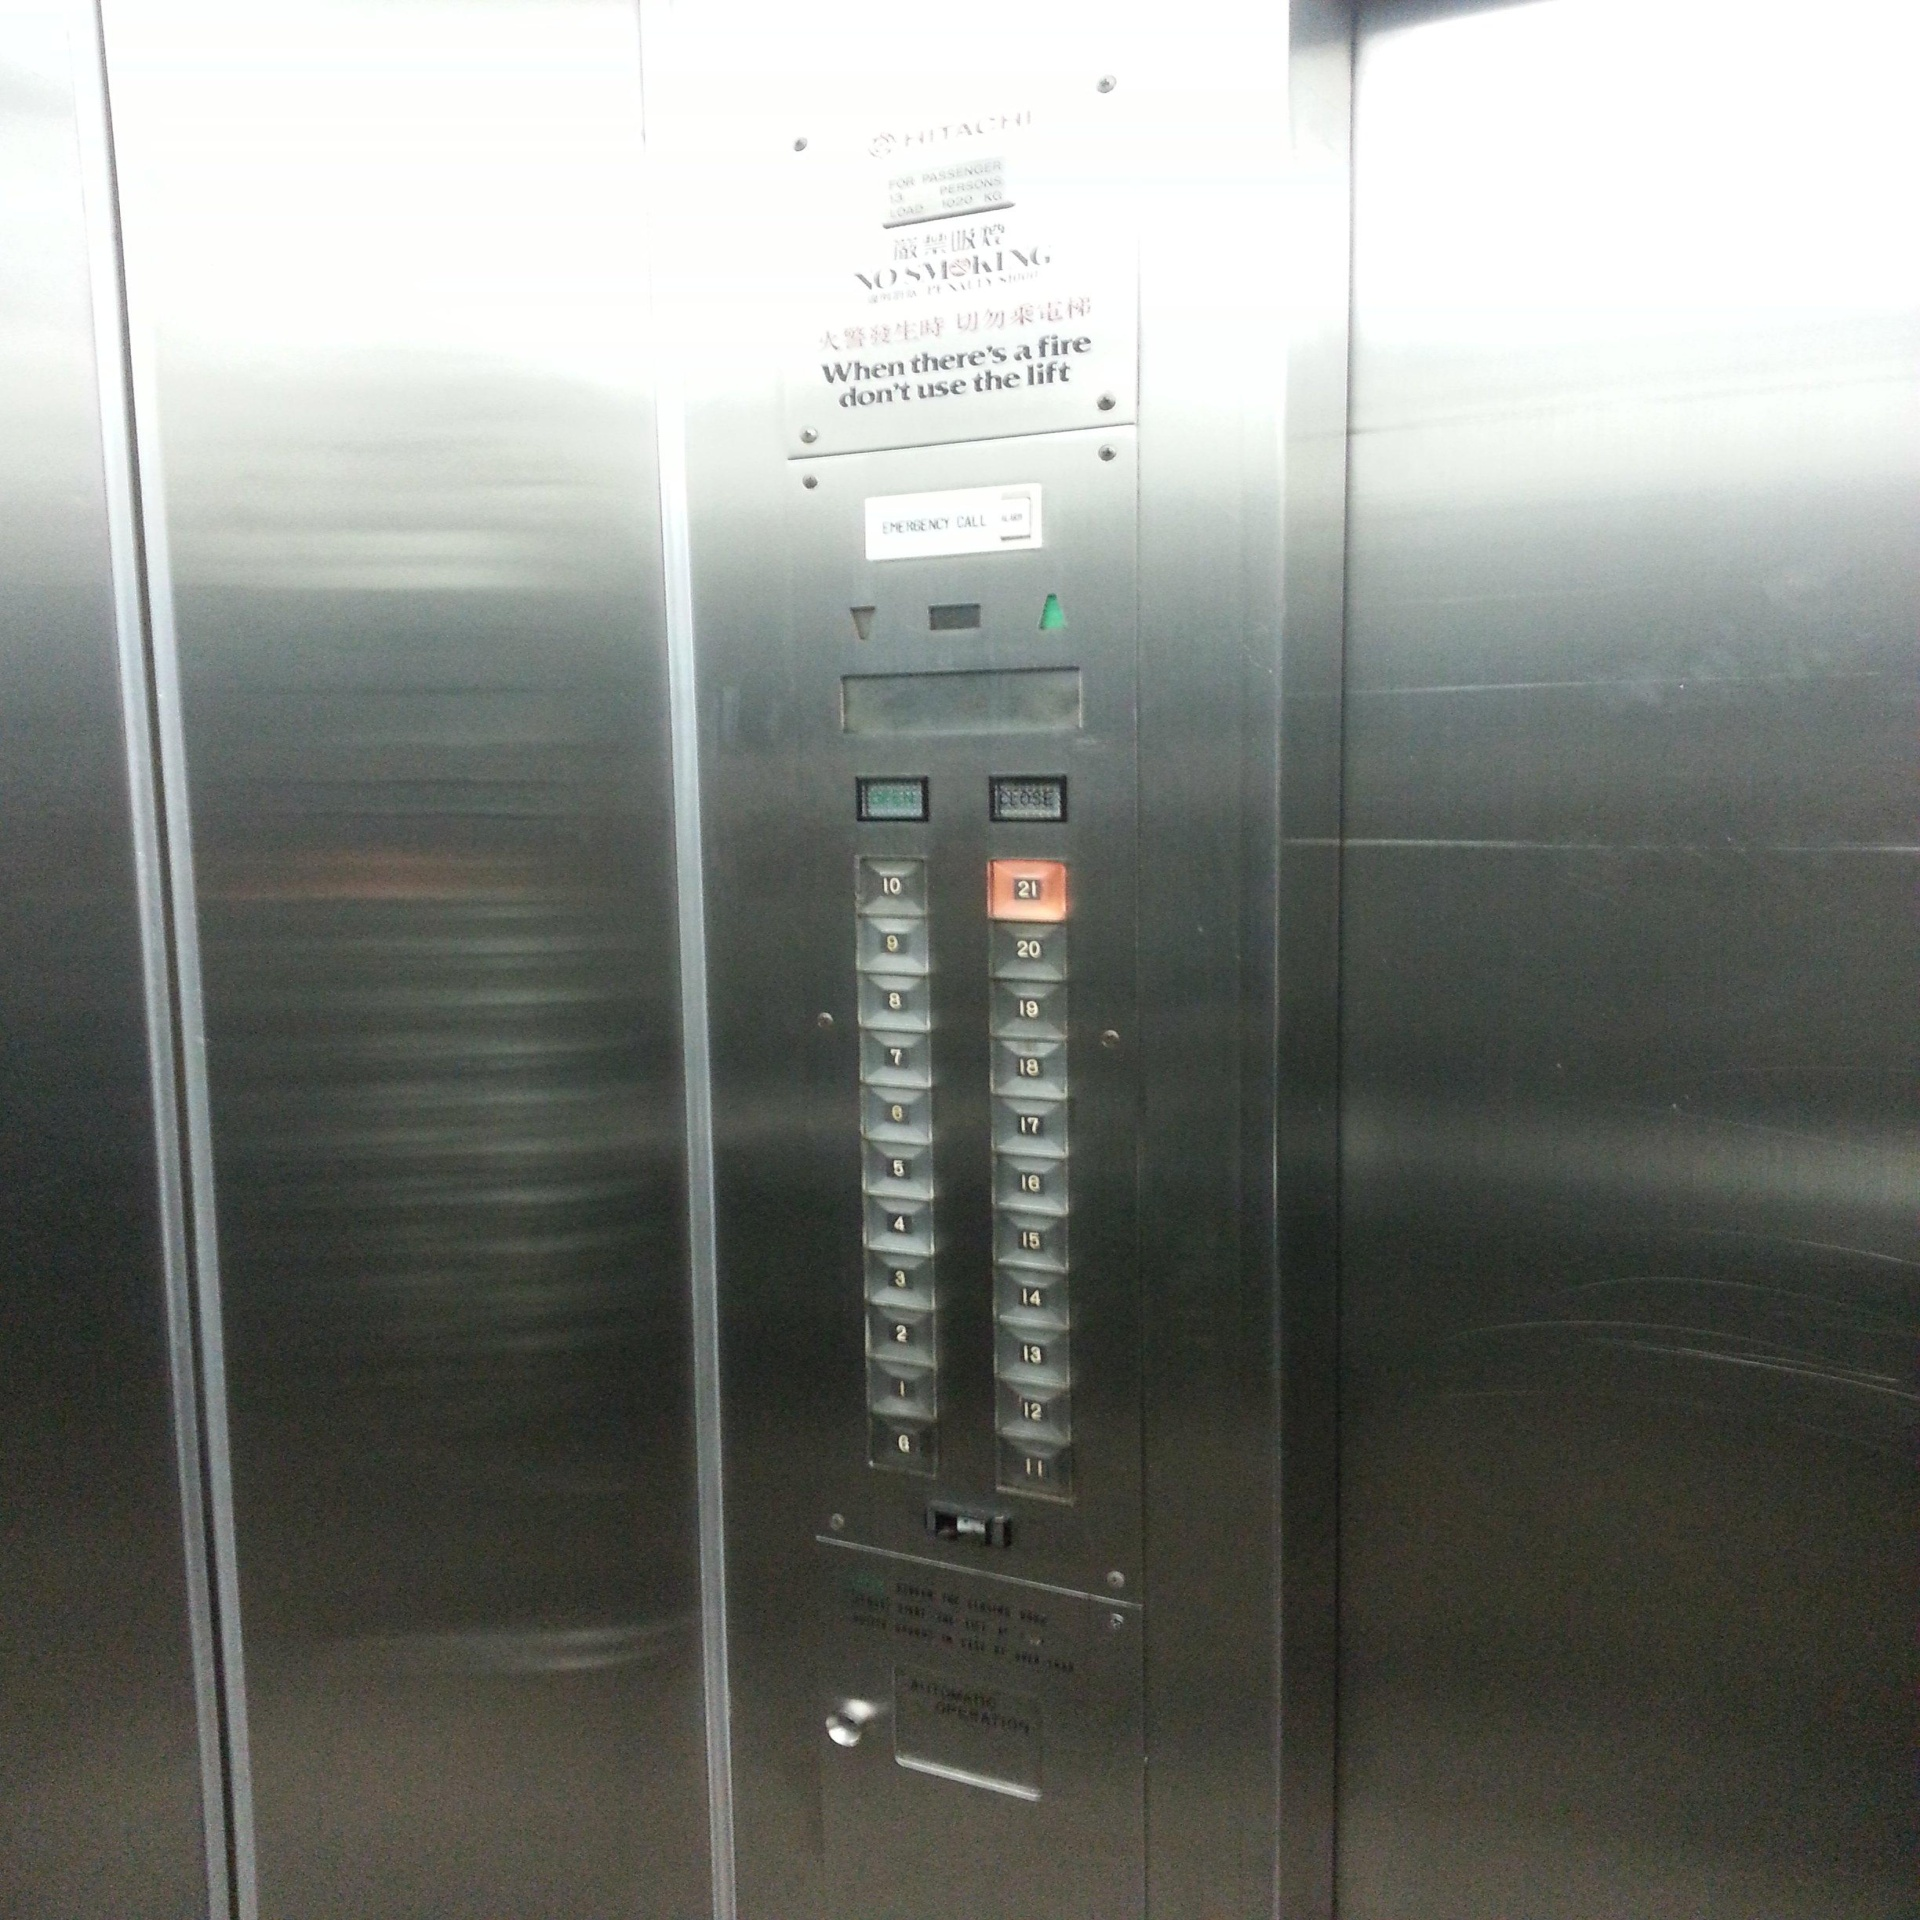1: (863, 1354, 941, 1424)
10: (853, 851, 932, 921)
11: (990, 1429, 1074, 1507)
12: (990, 1373, 1073, 1449)
13: (988, 1319, 1073, 1389)
14: (988, 1261, 1073, 1331)
15: (988, 1203, 1073, 1275)
16: (986, 1148, 1074, 1220)
17: (986, 1092, 1073, 1164)
18: (986, 1032, 1073, 1104)
19: (986, 972, 1073, 1046)
2: (862, 1301, 939, 1368)
20: (985, 916, 1071, 988)
21: (985, 853, 1069, 928)
3: (862, 1245, 939, 1312)
4: (860, 1190, 937, 1257)
5: (858, 1136, 935, 1203)
6: (856, 1081, 934, 1148)
7: (855, 1025, 934, 1094)
8: (855, 964, 934, 1036)
9: (853, 911, 934, 981)
G: (863, 1410, 941, 1480)
text_close: (985, 772, 1071, 825)
text_open: (855, 774, 932, 823)
